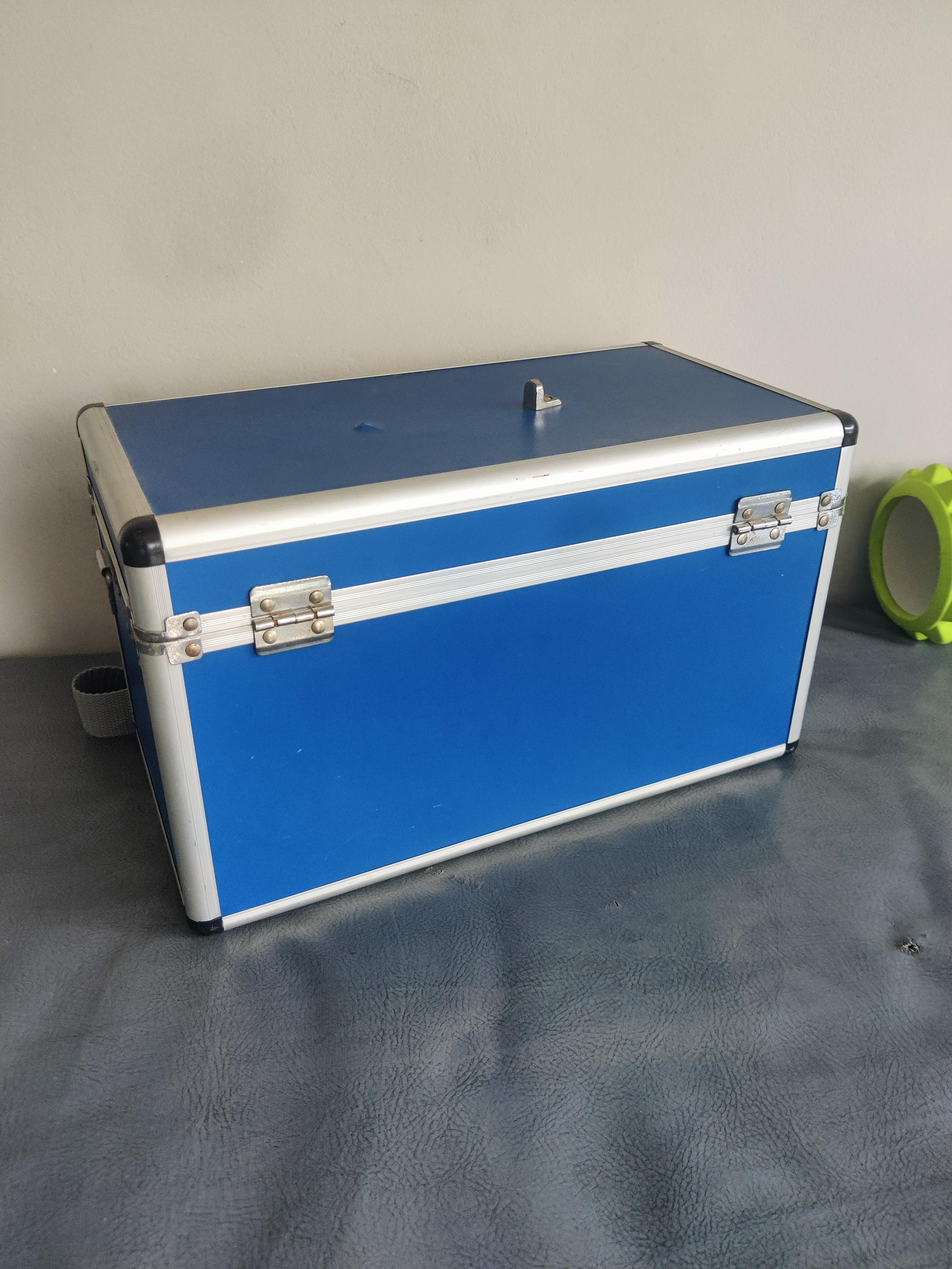FirstAidBox: (49, 315, 882, 925)
